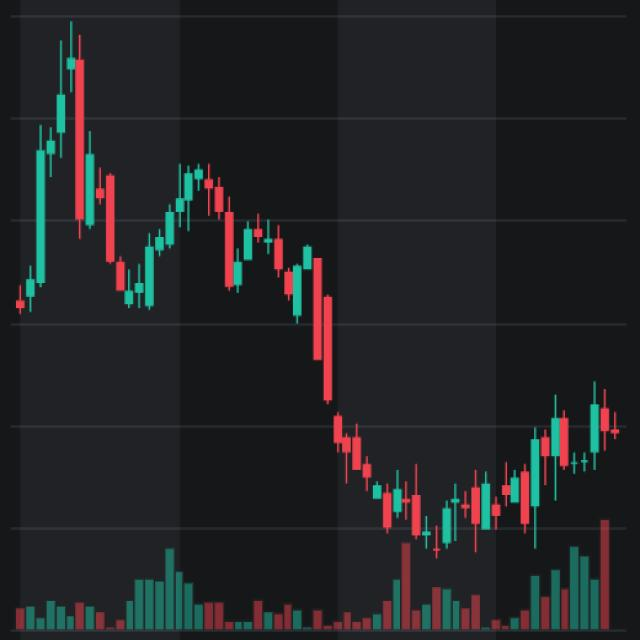Cup-and-handle: (326, 390, 623, 552)
